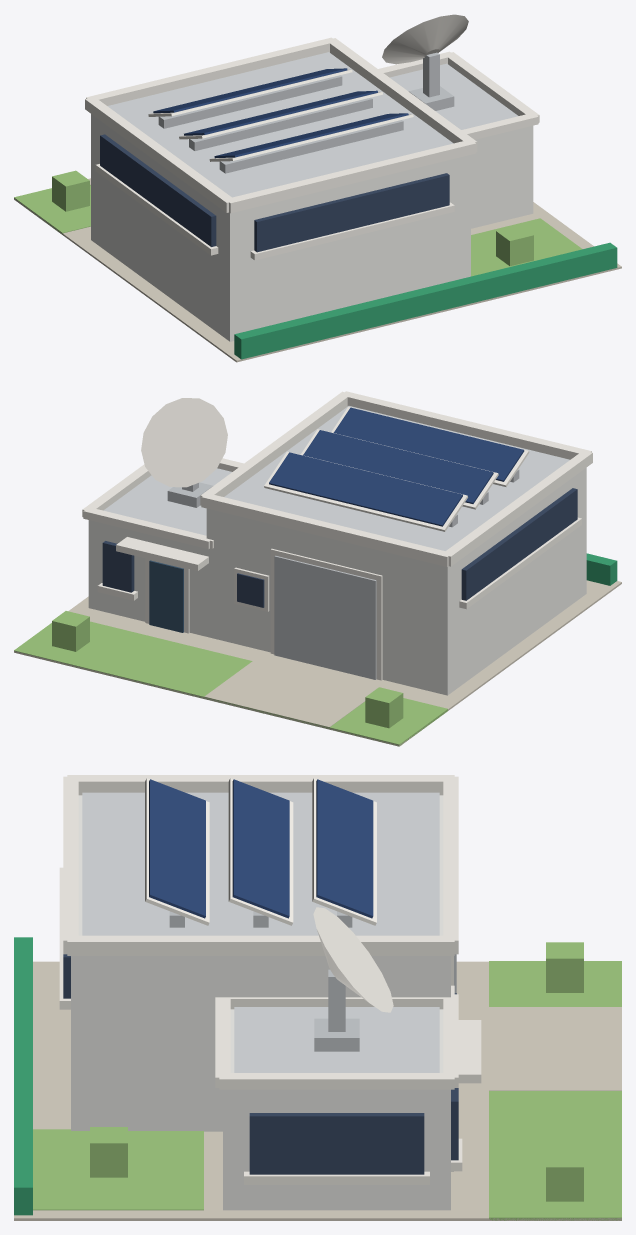
3 renders of one model, top to bottom at view 1: azimuth 30°, elevation 25°; view 2: azimuth 150°, elevation 25°; view 3: azimuth 270°, elevation 25°, orthographic. The views are drawn at different scales.
Parts seen in each view (by area): view 1: hall, roof (×2), parapet (×7), window_band (×2), hedge, panel_rail (×3), office, yard, lawn (×2), solar_panel (×3), sill (×2), tree_spot (×2) (+4 smaller); view 2: hall, solar_panel (×3), parapet (×6), roof (×2), lawn, garage_door, yard, satellite_dish, driveway, window_band (×2), office, tree_spot (×2) (+10 smaller); view 3: roof (×2), hall, lawn (×2), parapet (×8), solar_panel (×3), yard, office, driveway, window_band, tree_spot (×3), hedge, solar_frame (×3) (+5 smaller).
Boxes of the visible parts, x1,y1,x2,y2 form: hall: (91,114,470,341); roof (×2): (107,52,518,197); parapet (×7): (85,37,539,213); window_band (×2): (100,134,449,252); hedge: (234,242,617,359); panel_rail (×3): (158,75,403,173); office: (471,125,533,228); yard: (14,198,621,362); lawn (×2): (14,185,582,299); solar_panel (×3): (153,68,408,158); sill (×2): (95,164,454,260); tree_spot (×2): (52,170,533,266); hall: (206,467,586,695); solar_panel (×3): (269,407,524,526); parapet (×6): (82,391,592,566); roof (×2): (103,406,569,550); lawn: (14,621,447,746); garage_door: (274,555,376,679); yard: (14,580,621,746); satellite_dish: (141,398,227,487); driveway: (204,661,373,727); window_band (×2): (102,488,577,600); office: (88,520,208,637); tree_spot (×2): (52,611,403,728); roof (×2): (82,792,439,1072); hall: (71,795,450,1131); lawn (×2): (33,961,621,1220); parapet (×8): (63,775,458,1089); solar_panel (×3): (149,779,373,918); yard: (14,961,621,1220); office: (223,1009,450,1210); driveway: (489,1007,621,1090); window_band: (249,1113,424,1174); tree_spot (×3): (90,942,583,1201); hedge: (14,937,32,1215); solar_frame (×3): (145,778,376,925).
Bounding box in the file's own units: 16 × 7.51 × 16.
